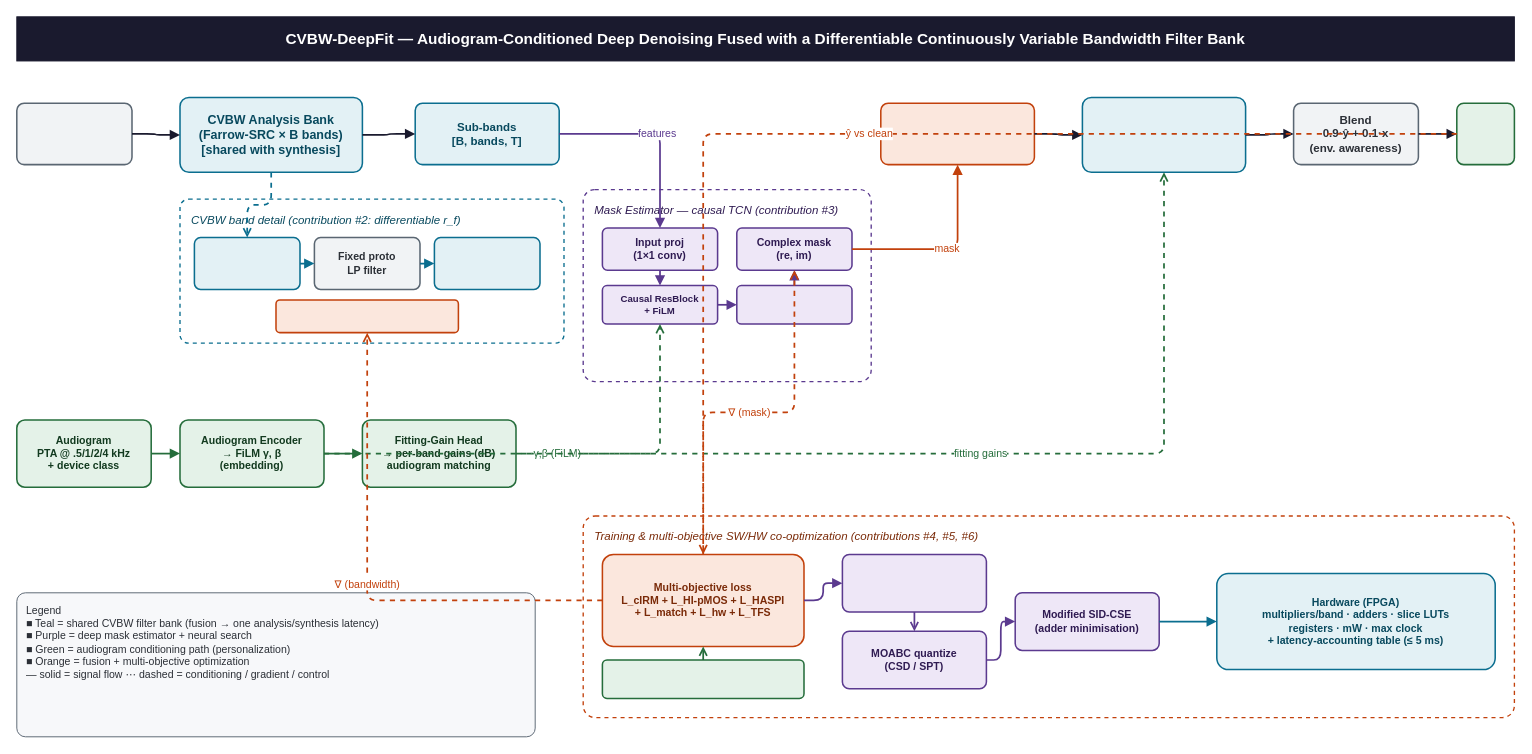
This 1532x754 diagram has some shape labels left out. The shapes that lost their labels are listed below. From the top down, each one's centre as x and y in pixels, then its label:
At point (74, 133): "Noisy input x[n] (single mic)".
At point (957, 133): "Fusion mask ⊙ sub-bands (complex ratio mask)".
At point (1163, 134): "CVBW Synthesis (single pass; audiogram-matched gains)".
At point (1485, 133): "ŷ[n]".
At point (246, 263): "X-to-Y SRC (down)".
At point (486, 263): "Y-to-X SRC (up)".
At point (367, 316): "learnable bandwidth factor r_f (∇ flows)".
At point (794, 304): "… ResBlock N + FiLM".
At point (914, 582): "Evolutionary NAS (Δ HI-pMOS fitness)".
At point (702, 679): "HI-pMOS estimator (trained on HI/CI ratings)".
